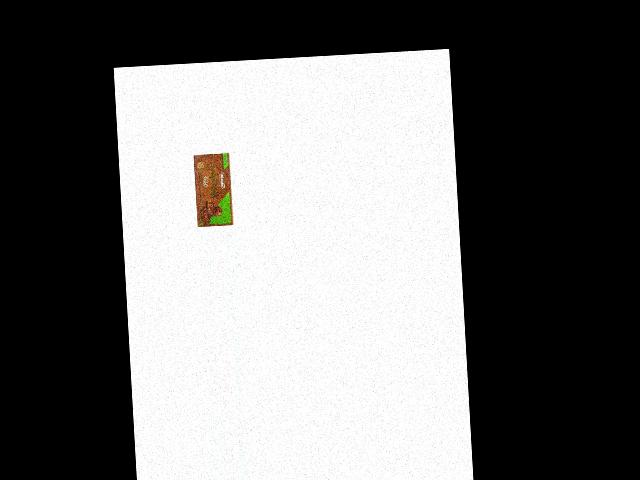chocolate: (191, 150, 236, 228)
